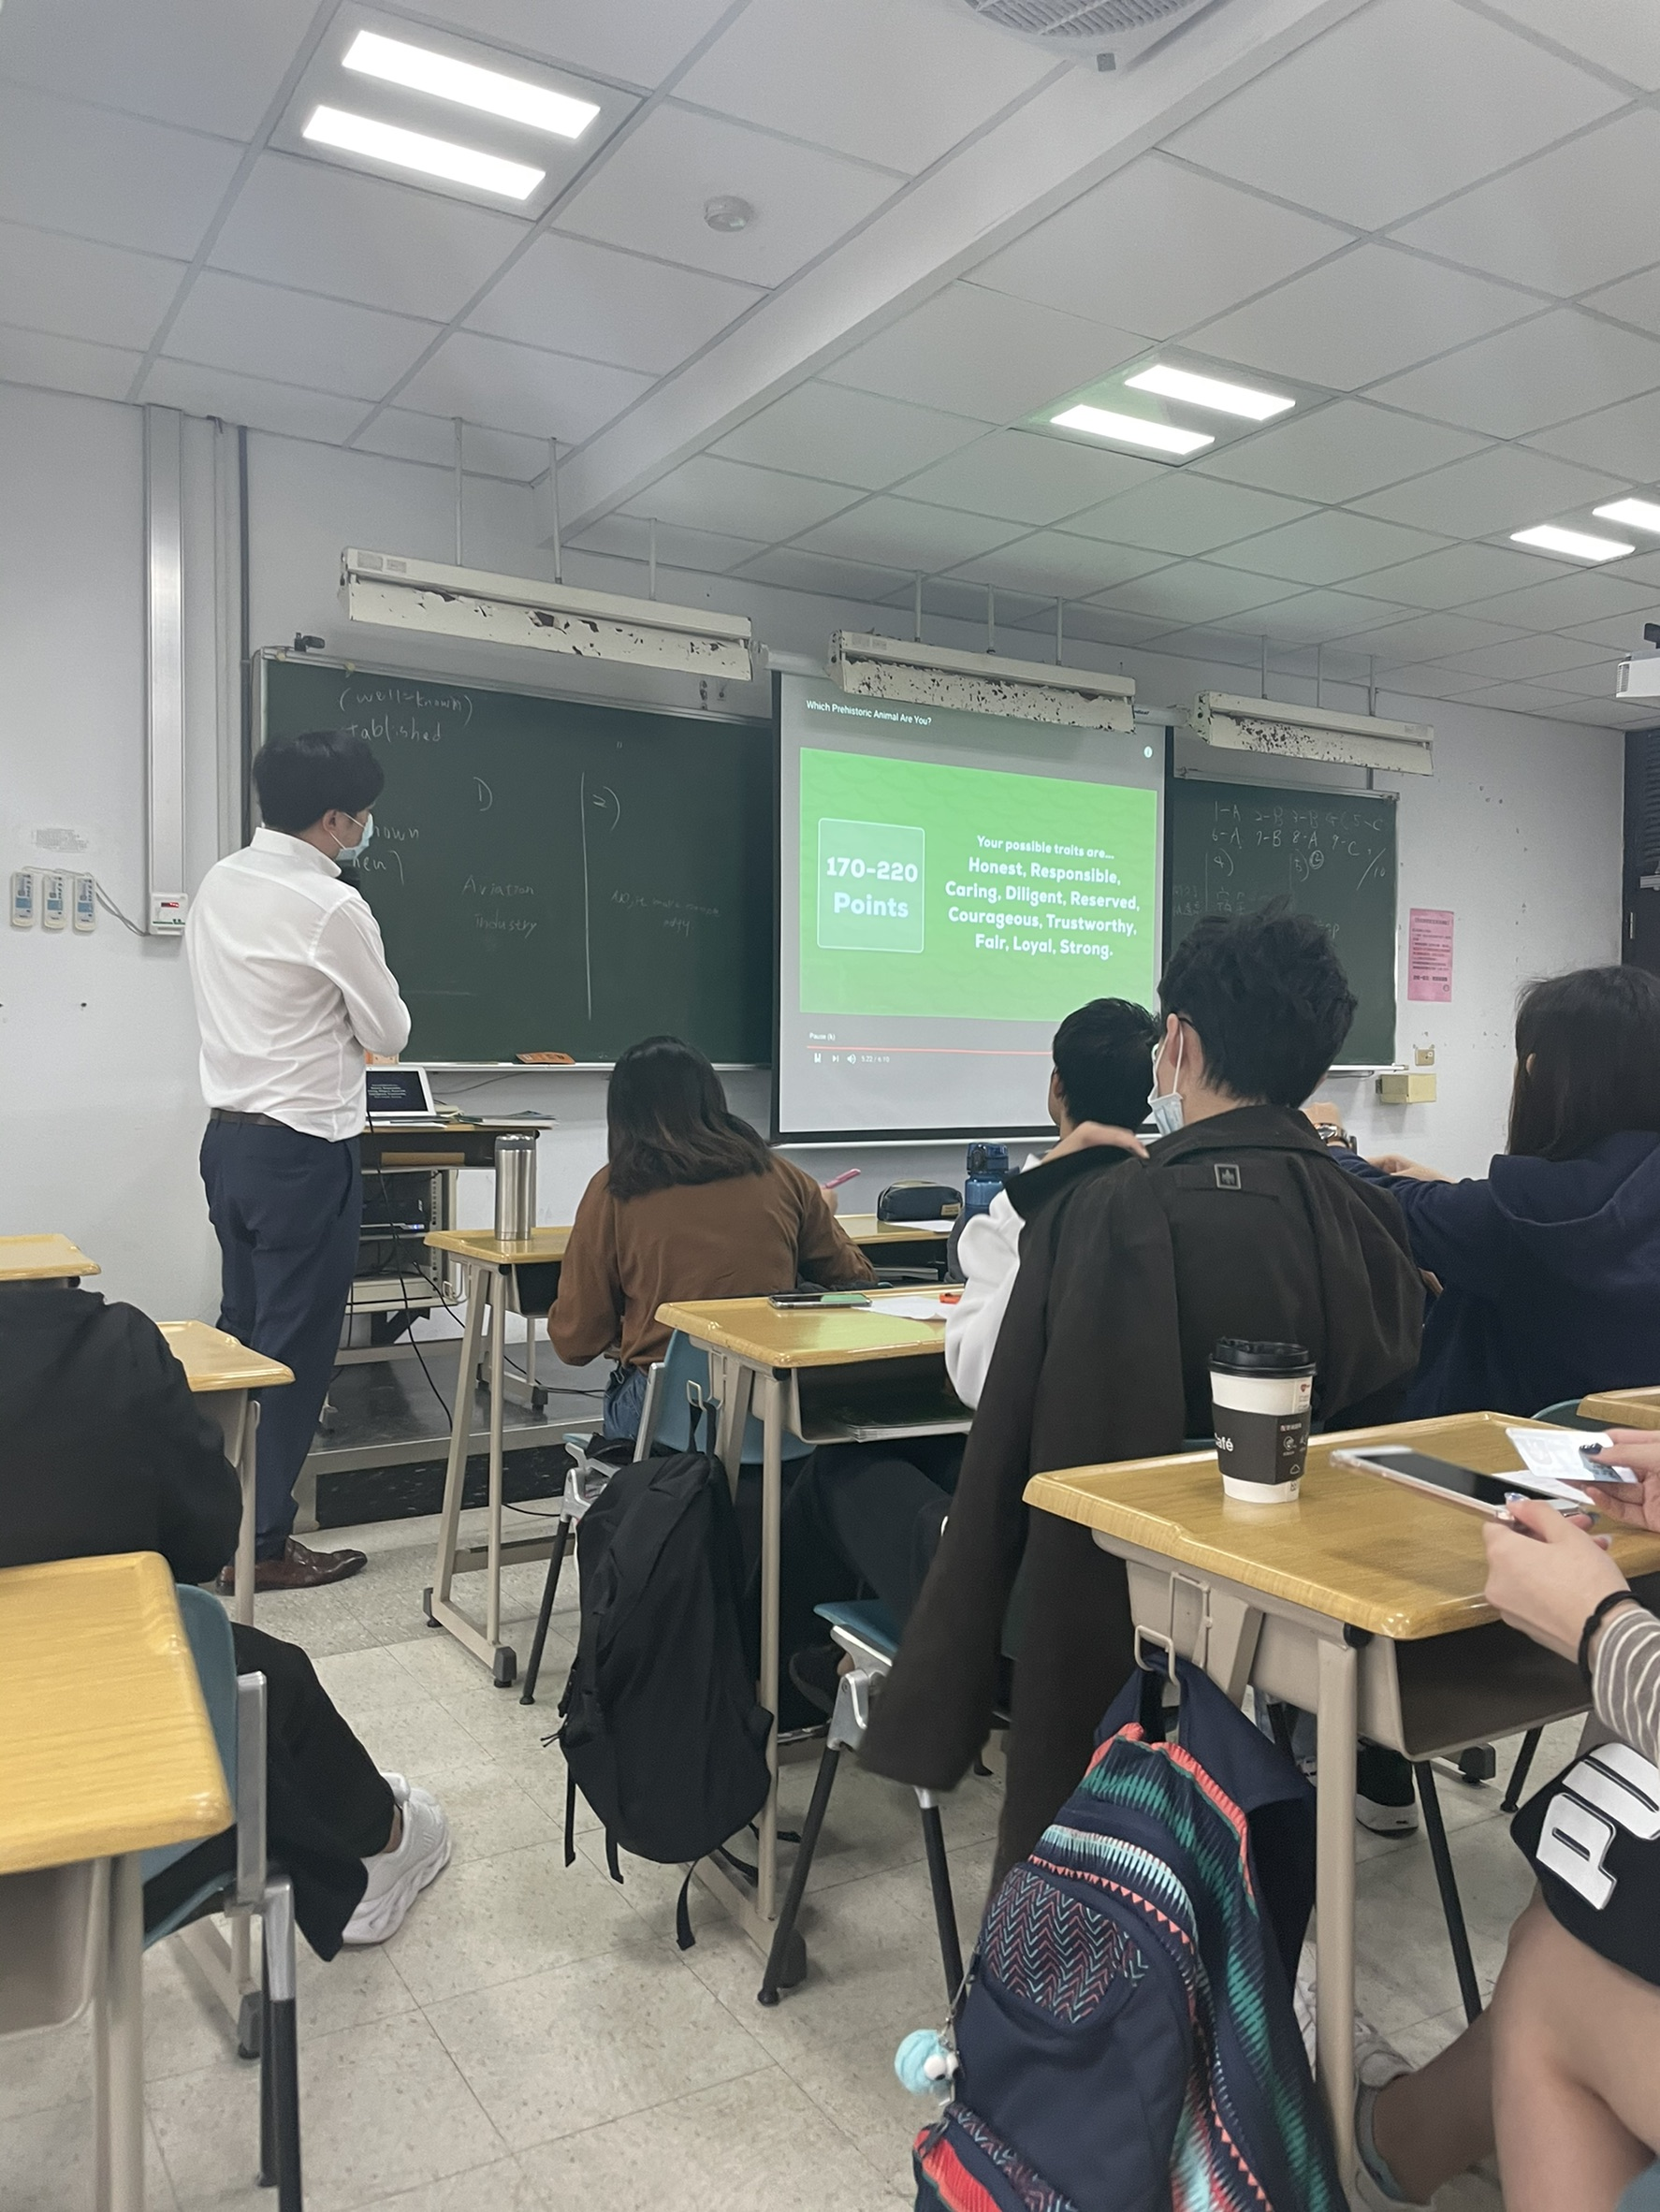people: (784, 912, 1421, 1723), (4, 1244, 457, 1953), (1277, 1405, 1660, 2212), (187, 729, 417, 1579), (544, 1035, 881, 1506), (1310, 970, 1660, 1417), (986, 999, 1170, 1161)
